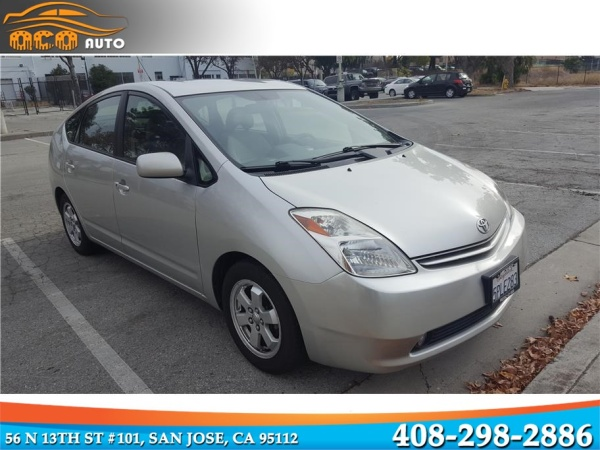Toyota Prius: (46, 76, 528, 380)
